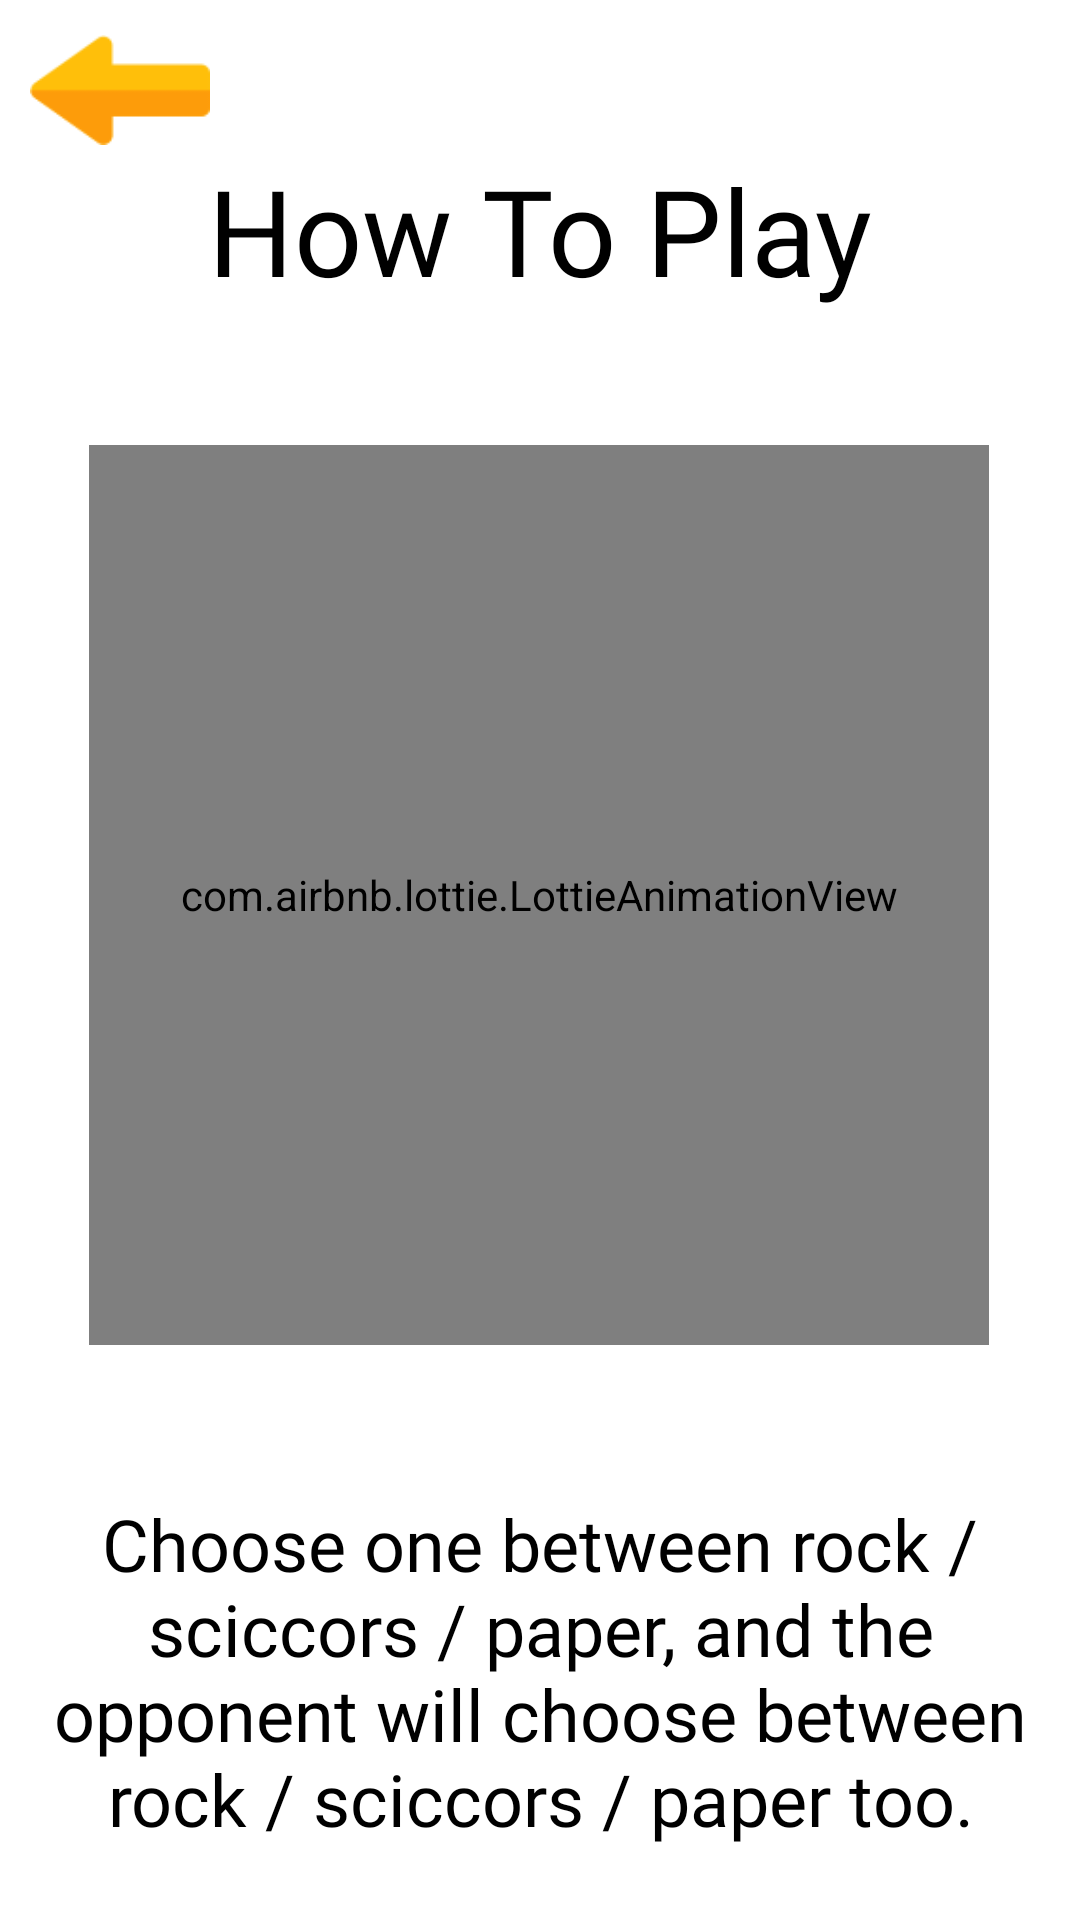

Locate icon controls on the screen. Image size 1080w x 1920h, boxes as (x1, y1, x2, y2).
back: (30, 35, 210, 145)
